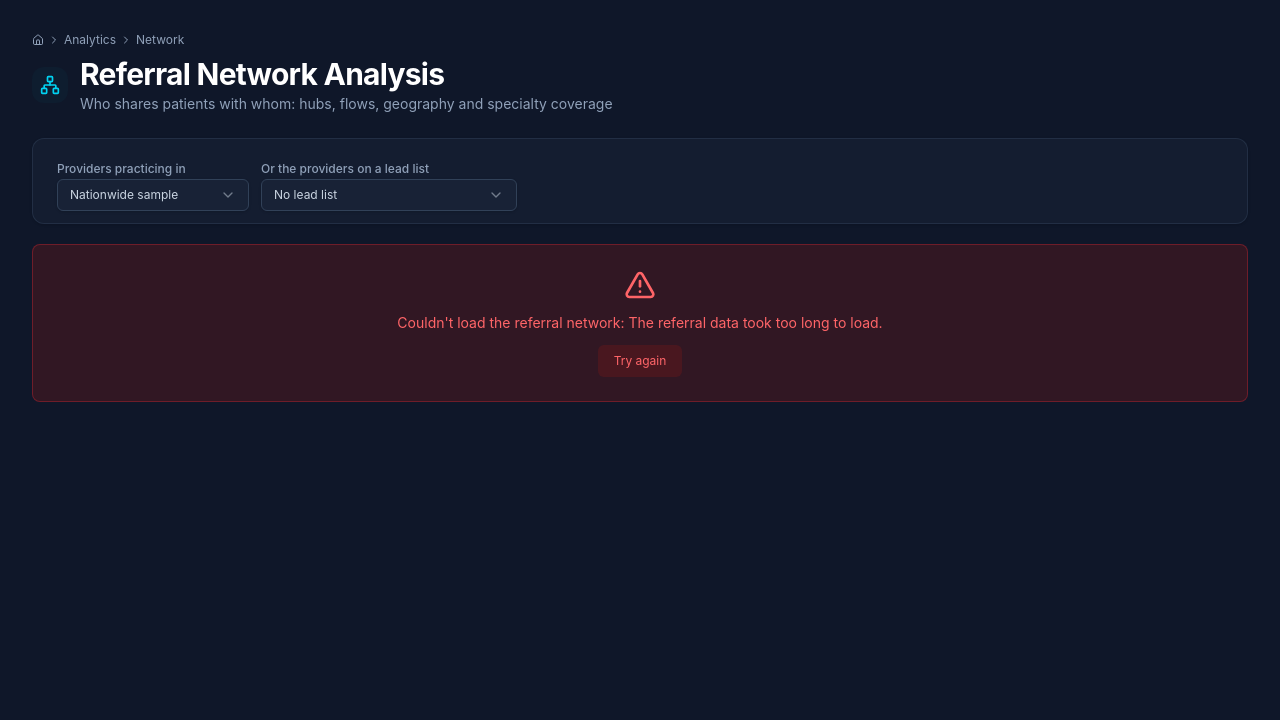
Test: ReferralNetworkIntelligence › shows the error with a retry
Expected: the message shows "took too long", [628,314,883,331]
What coordinates should you click on to do the following:
click the button "Try again"
I would click on:
 (640, 361)
Its box is [598,345,682,377].
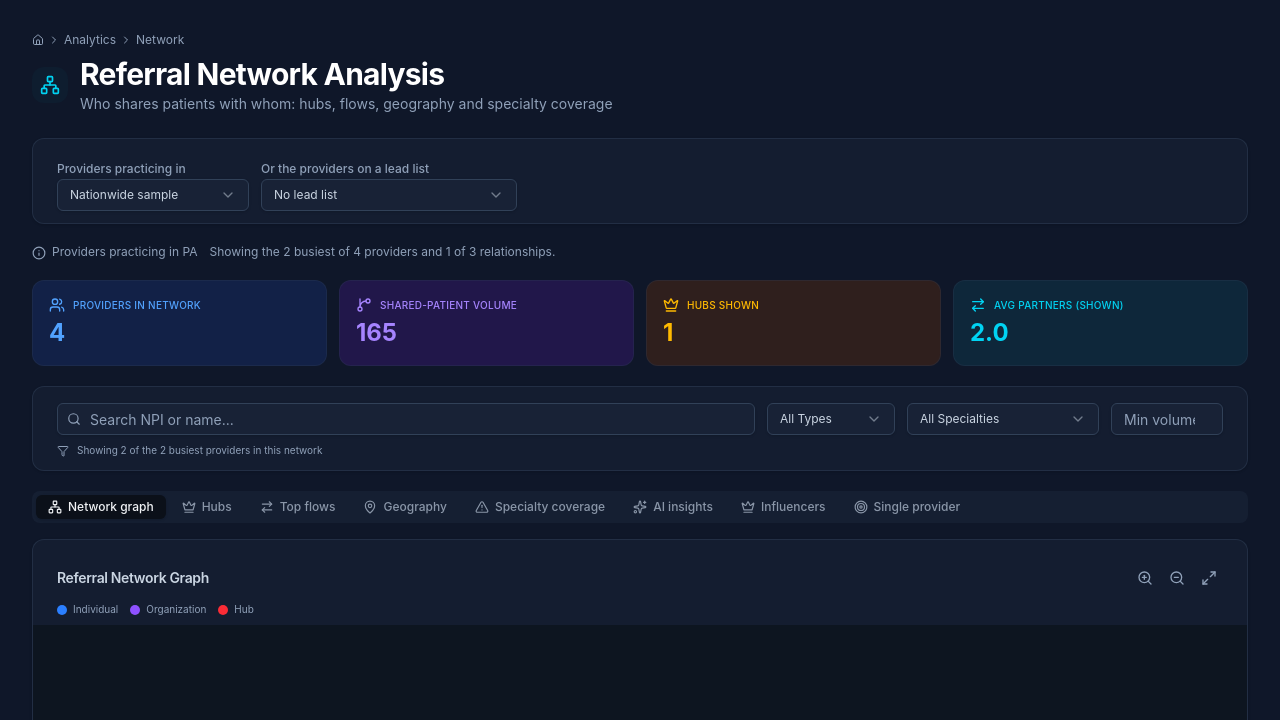
Result: the text "Providers practicing in PA" is shown at [52,244,198,260]
